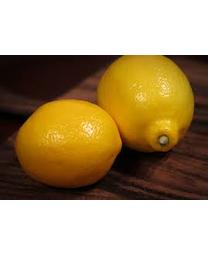lemon: (16, 98, 121, 190), (97, 56, 193, 152)
